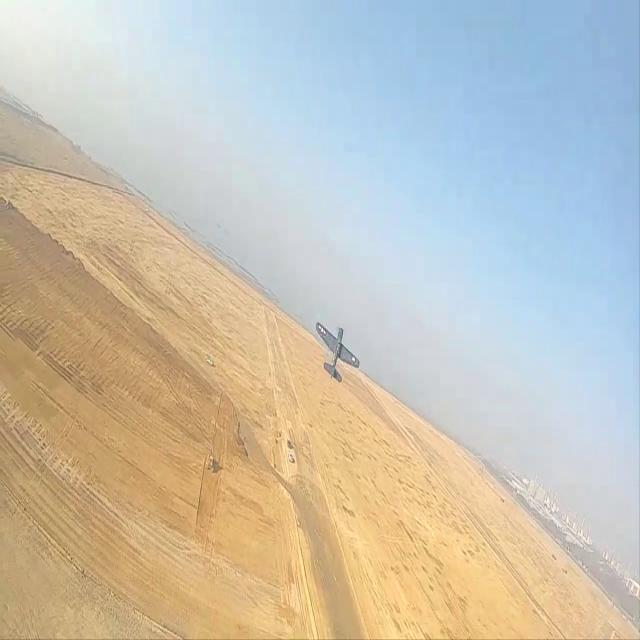iha: (313, 320, 360, 383)
